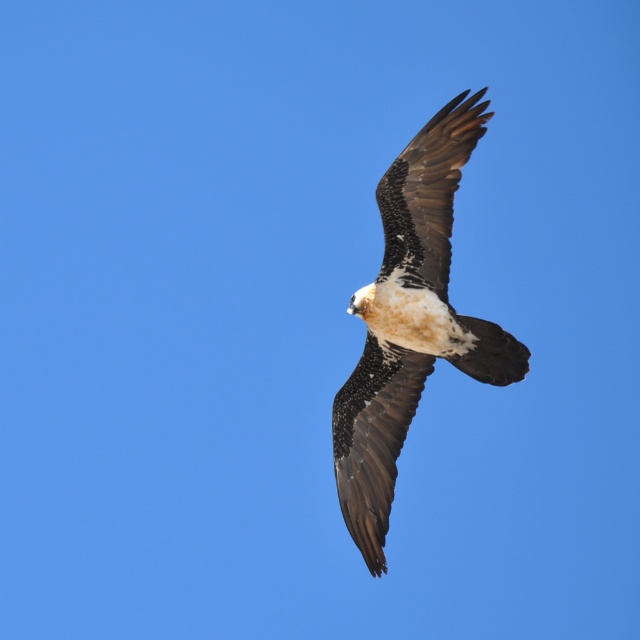Eagle: (324, 80, 536, 582)
